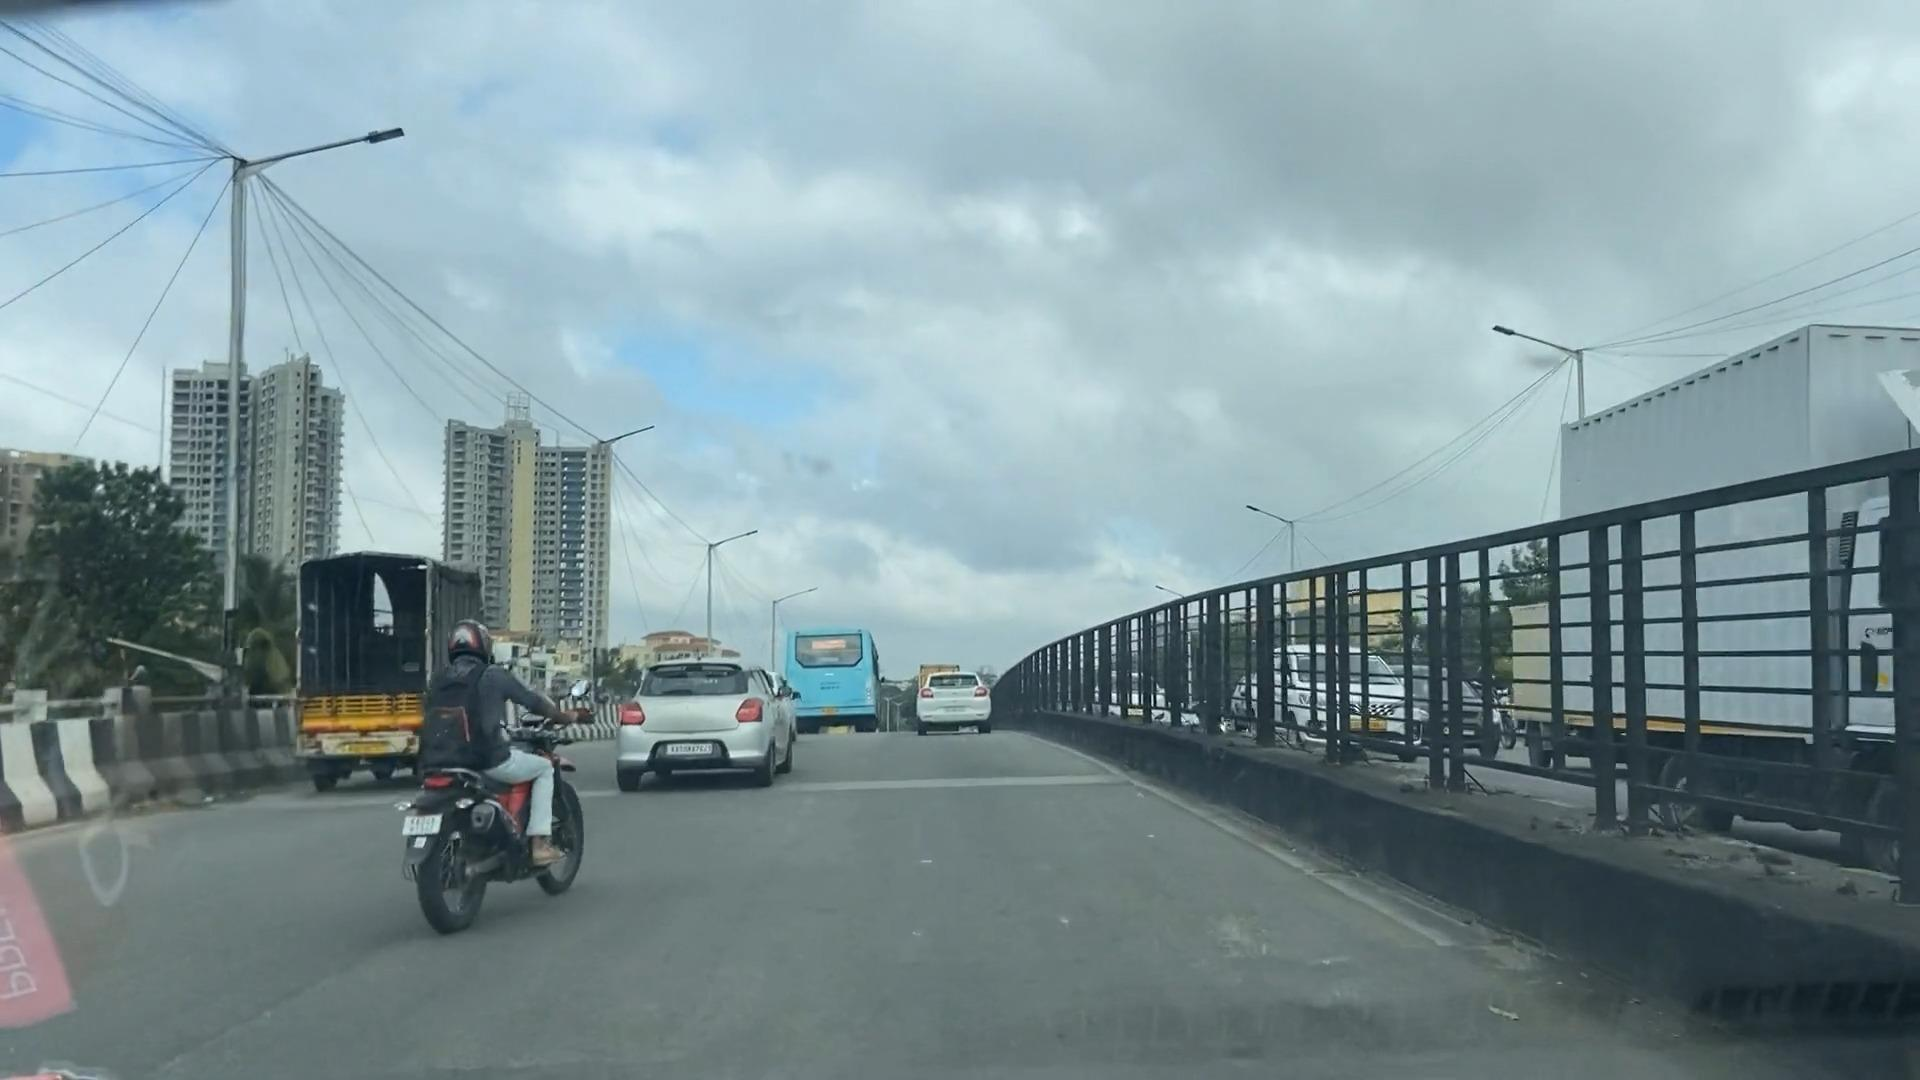HMV: (284, 520, 512, 840), (777, 595, 916, 746)
LMV: (365, 608, 617, 975), (596, 633, 823, 823), (907, 658, 1005, 745)
